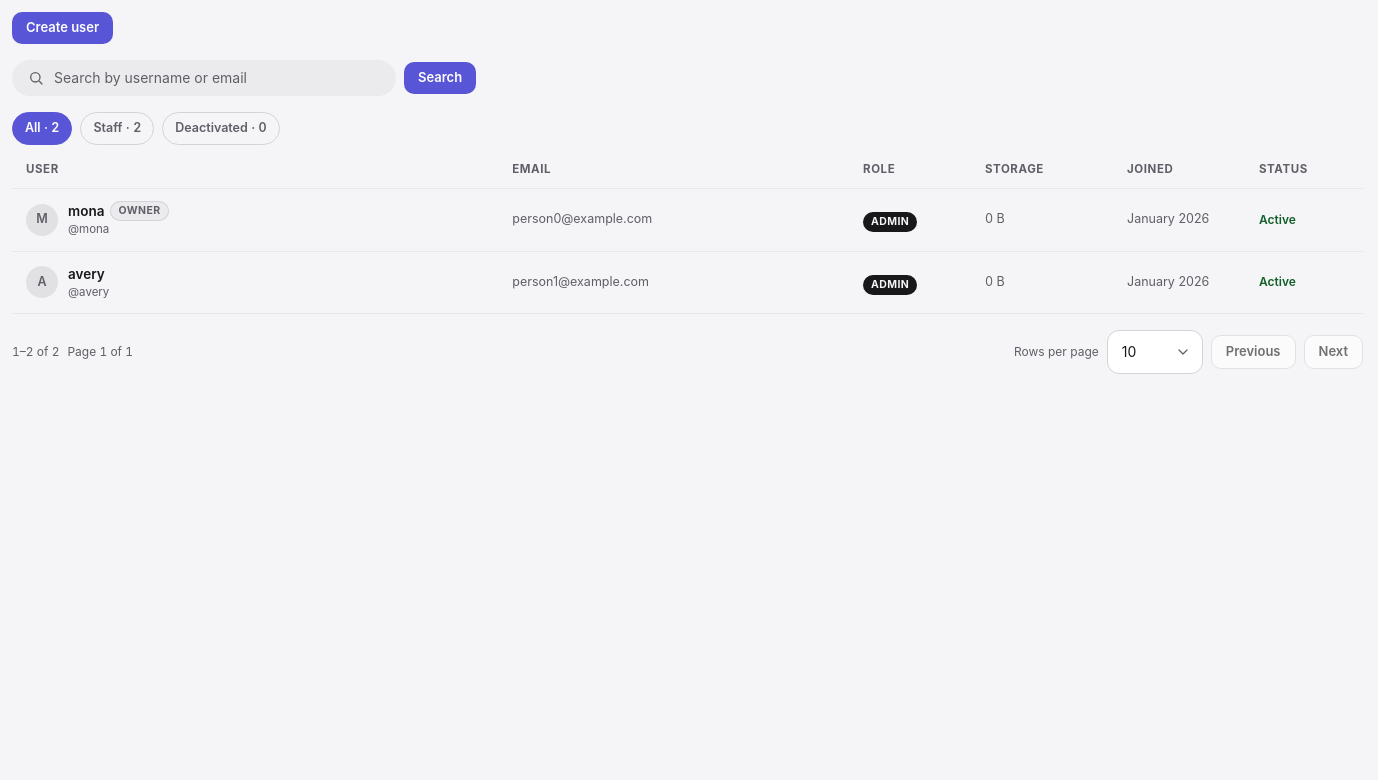
Test: AdminUsersView owner protection › disables role, deactivation and deletion on the owner, and says why
Click the button with aria-label "Open mona".
click(42, 220)  # box [12,189,1363,252]
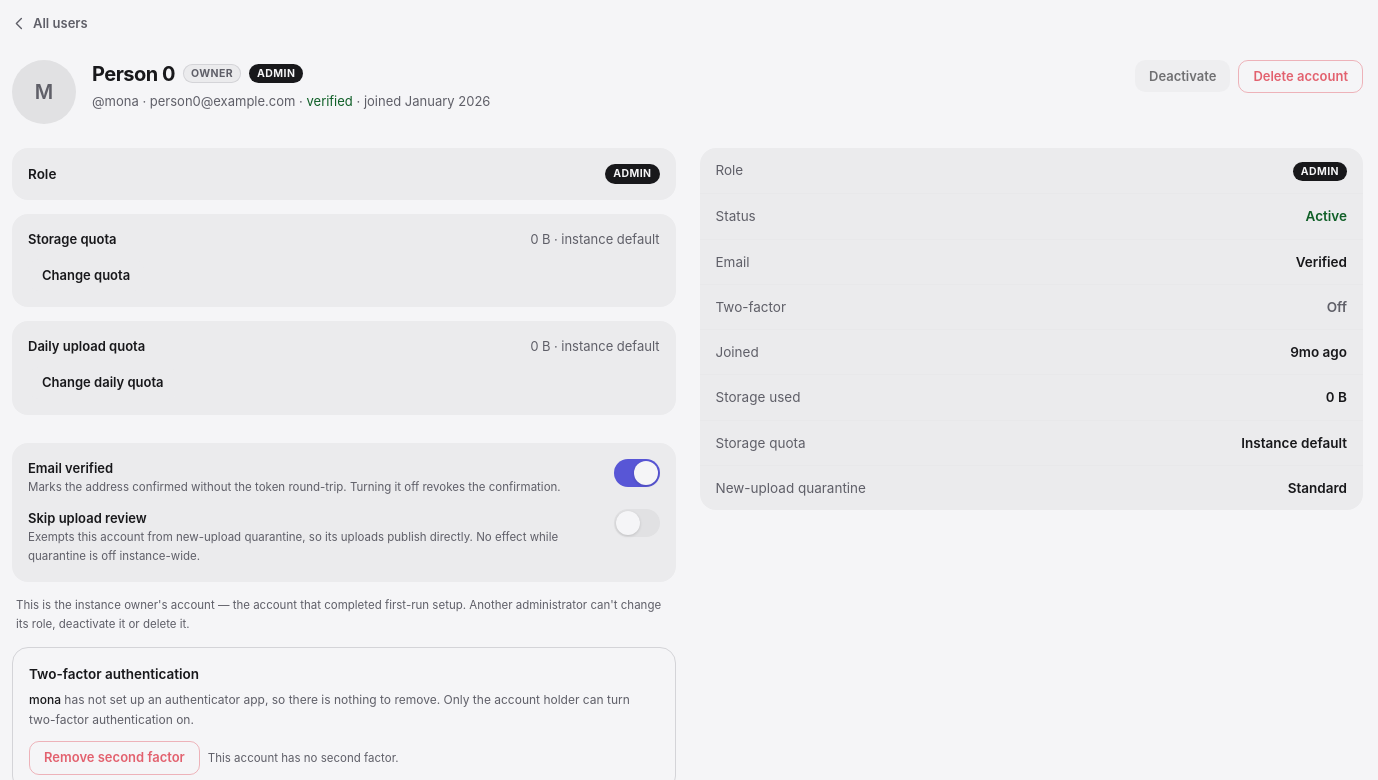
Expected: the button with aria-label "Deactivate mona" is disabled, [1135,60,1230,92]
Expected: the button with aria-label "Delete mona permanently" is disabled, [1238,60,1363,93]
Expected: the text "instance owner" is shown, [16,598,661,630]
